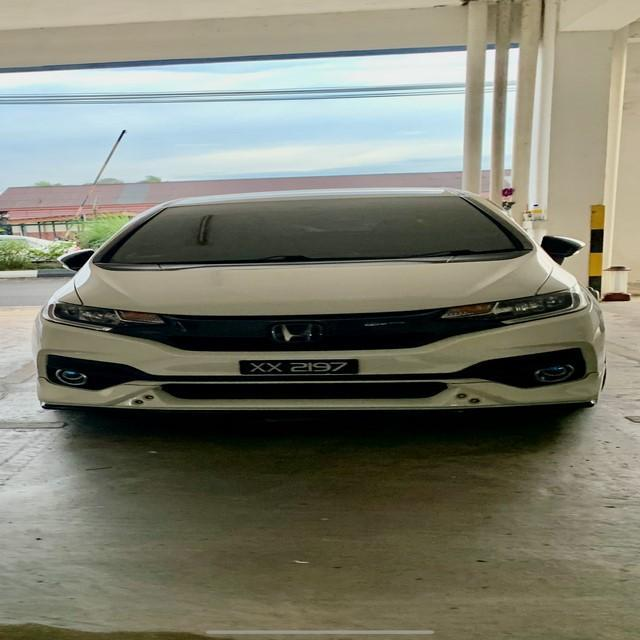License_Plate: (231, 348, 373, 388)
car: (31, 188, 629, 444)
